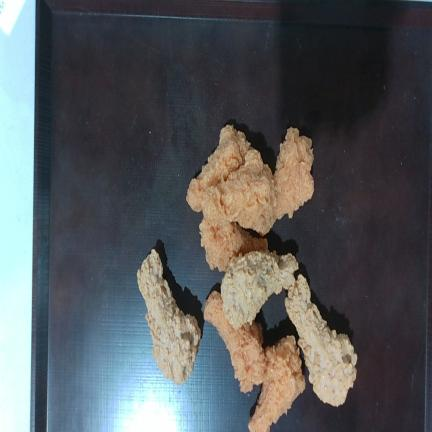chicken: (285, 275, 357, 406), (137, 249, 201, 384), (204, 291, 265, 391), (221, 251, 298, 329), (204, 152, 275, 235), (248, 336, 305, 431), (273, 128, 314, 218)
